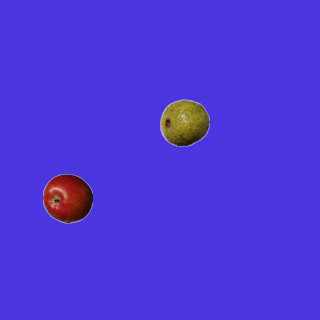Apple Braeburn: (42, 173, 92, 223)
Guava: (159, 97, 209, 147)
